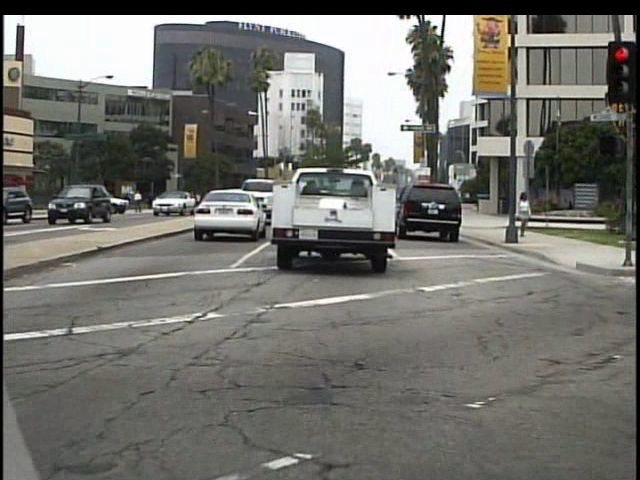person: (516, 189, 535, 241), (134, 188, 147, 217)
